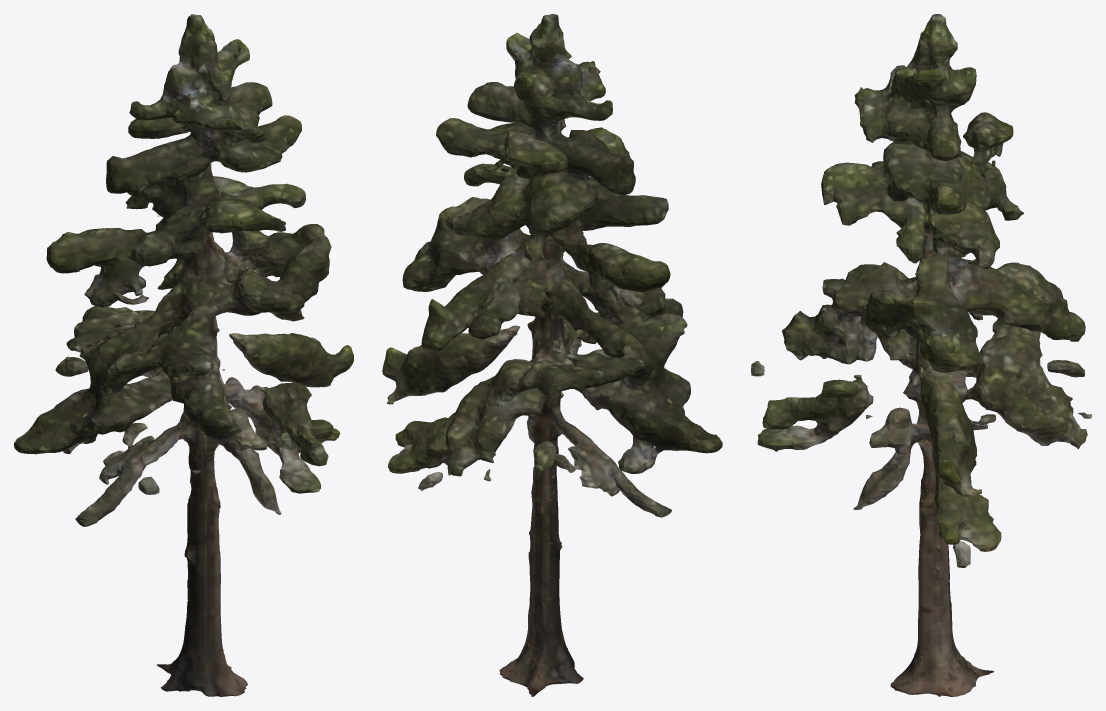
File: Pine_Mature_A_InstantMesh_seed137.obj
The picture shows the model from 3 angles, left to right: view 1: azimuth 30°, elevation 25°; view 2: azimuth 150°, elevation 25°; view 3: azimuth 270°, elevation 25°; orthographic projection.
Bounding box in the file's own units: 1.04 × 1.99 × 0.9247.
